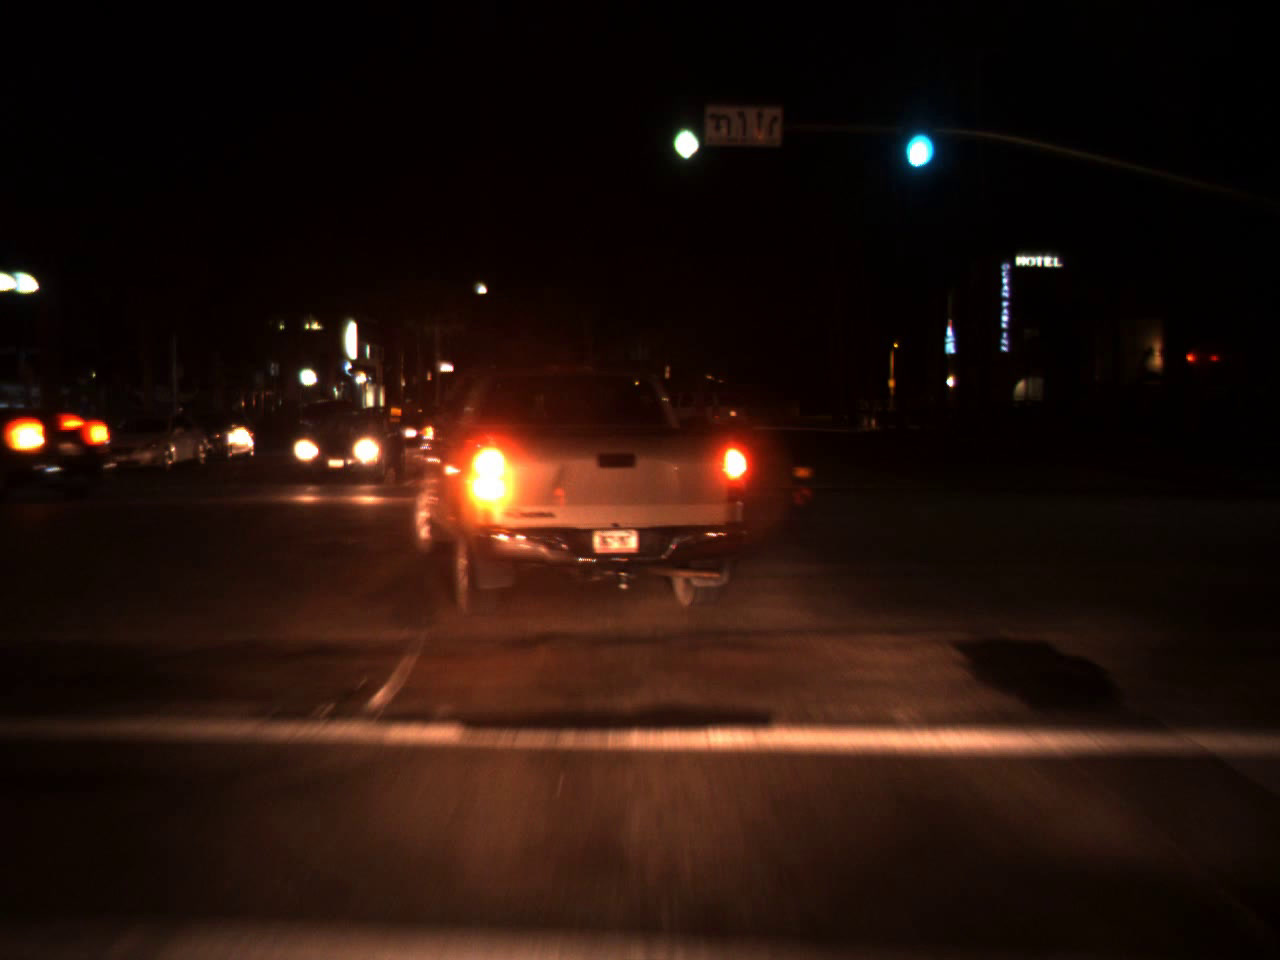go: (894, 94, 939, 178), (665, 90, 703, 171)
